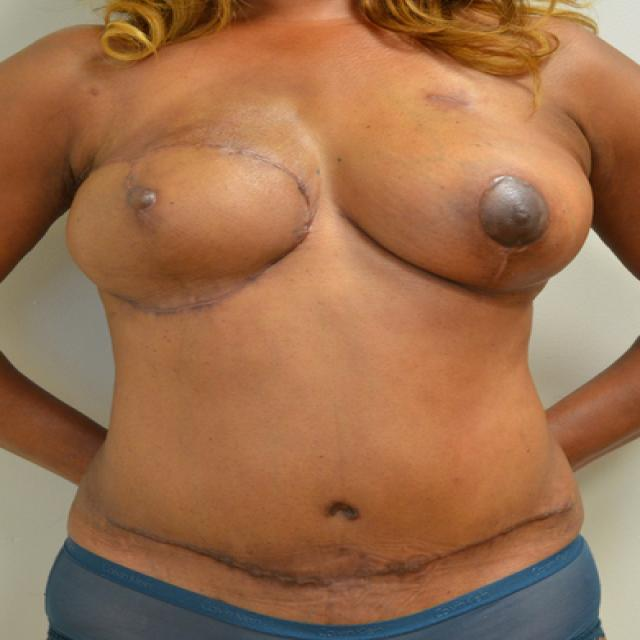Seno herido: (334, 119, 602, 324), (58, 118, 324, 324)
